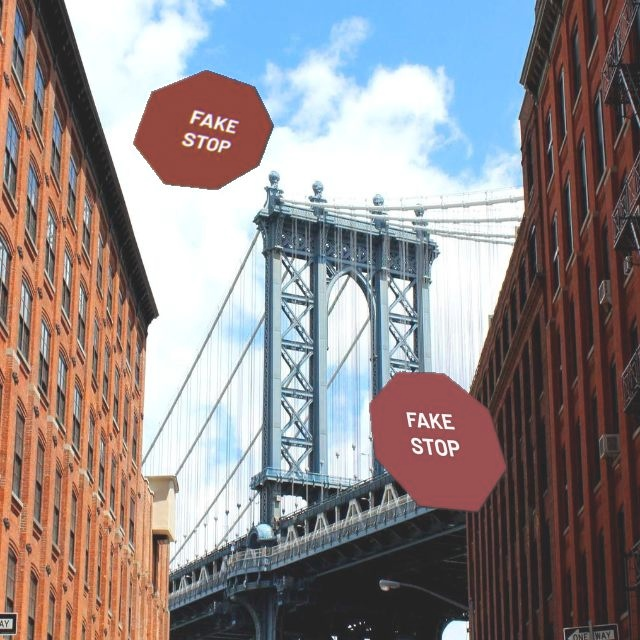FAKE_STOP: (368, 371, 508, 513), (132, 69, 274, 190)
